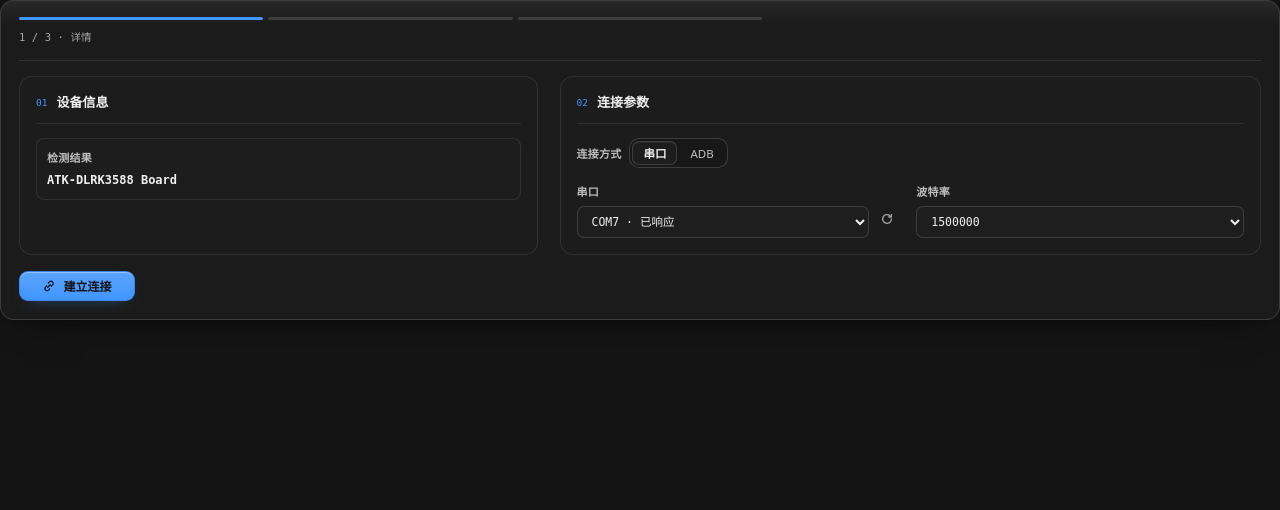
it: the board setup wizard › the wait advances to capability detection without inventing a percentage
Expected: the dropdown labelled "串口" shows "COM7 · 已响应", [576,206,869,238]
Step 1. Click the button "建立连接" → coordinates (77, 286), box [19,271,135,301]
Wait 6500 ms
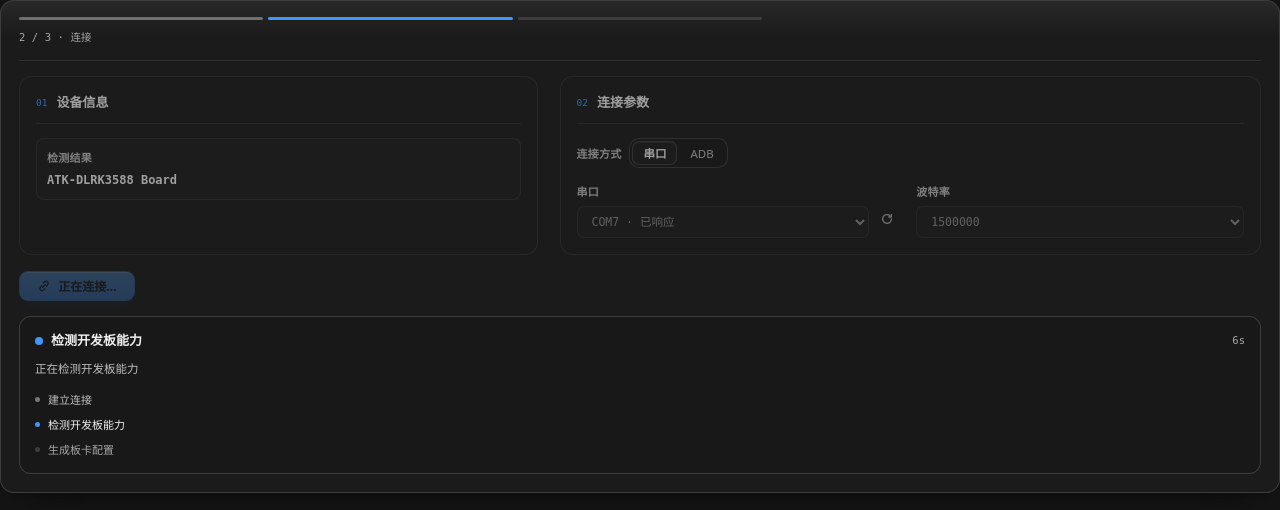
Result: the text with class "wizard-wait__title" reads "检测开发板能力" at [51,331,142,349]
